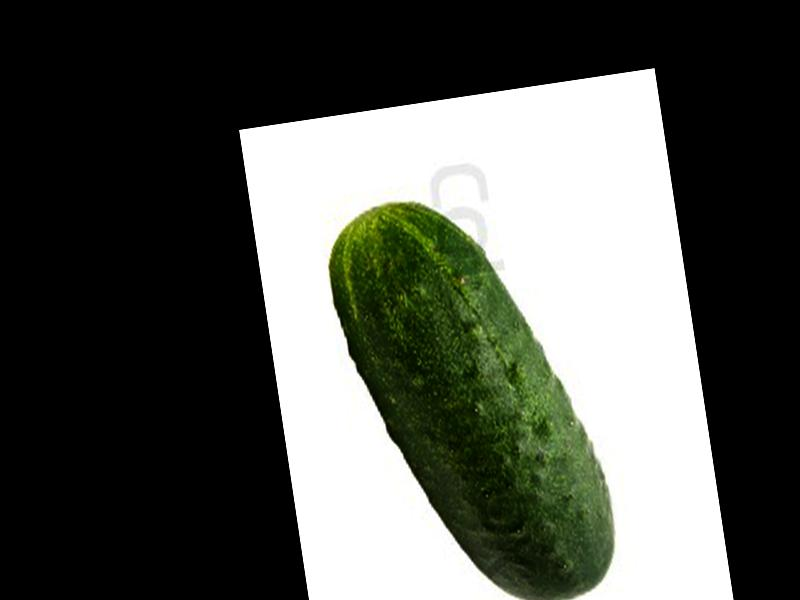Cucumber: (323, 176, 625, 600)
